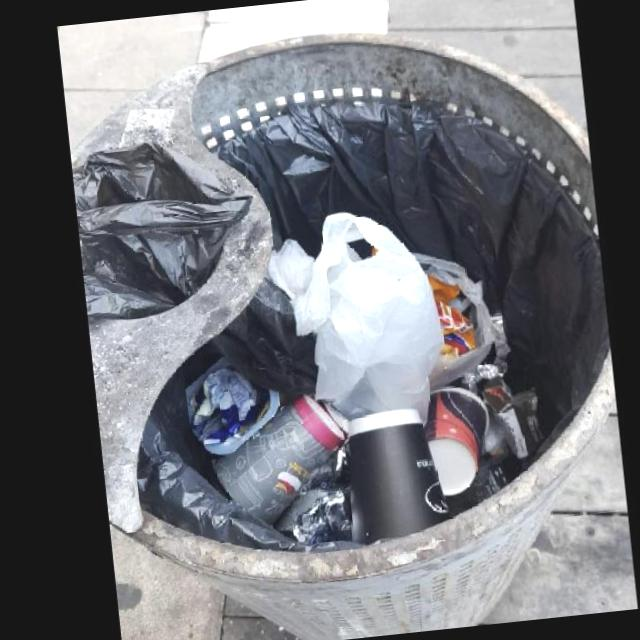carton: (212, 394, 344, 526), (347, 409, 450, 547), (425, 387, 487, 497), (483, 383, 530, 458)
chai_nhua_pet: (411, 252, 510, 382)
giay: (192, 366, 256, 423)
tui_ni_long: (268, 212, 444, 427)
